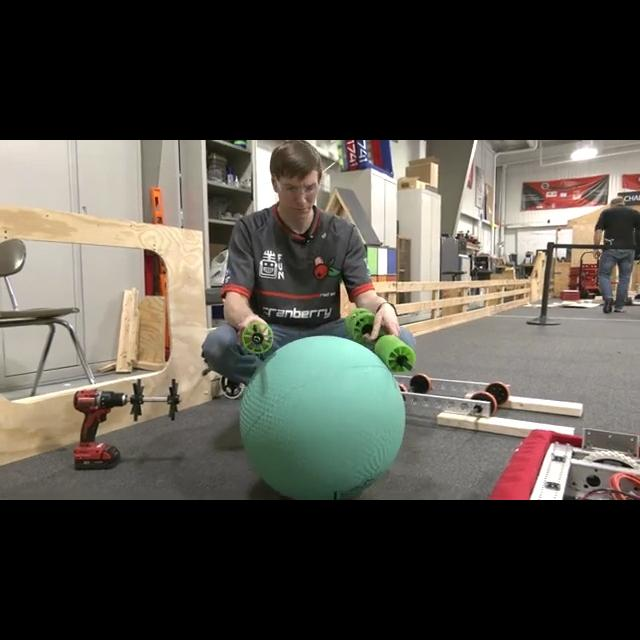ALGAE: (238, 334, 407, 498)
